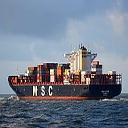Ships: (7, 47, 124, 100)
